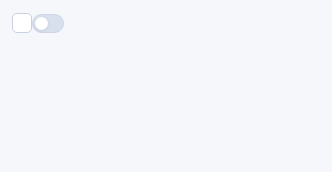
custom input and toggles › uses button-based controlled toggles and cannot change a disabled fieldset
Later steps or results of the test are not shown.
Click the checkbox named "独占": [22, 24] box [12,14,32,34]
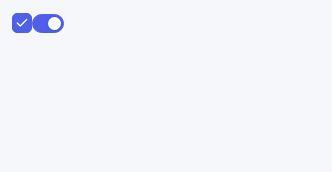
Expected: the switch named "启用" is checked, [32,14,64,33]
